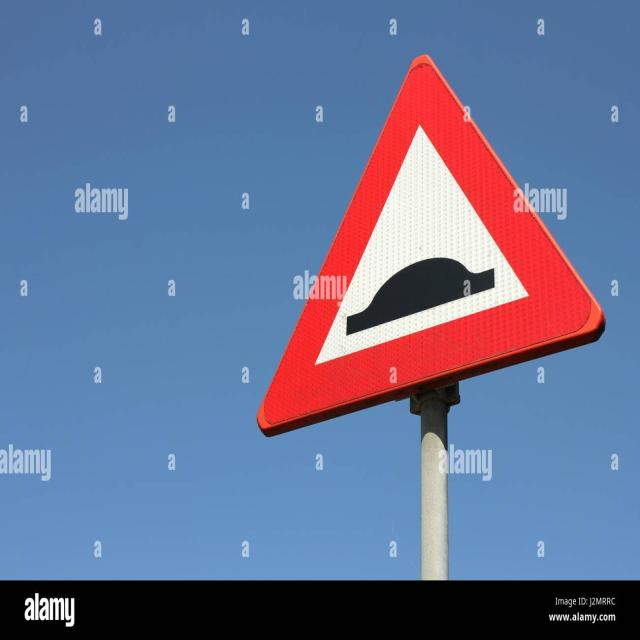BUMPS: (255, 57, 605, 439)
